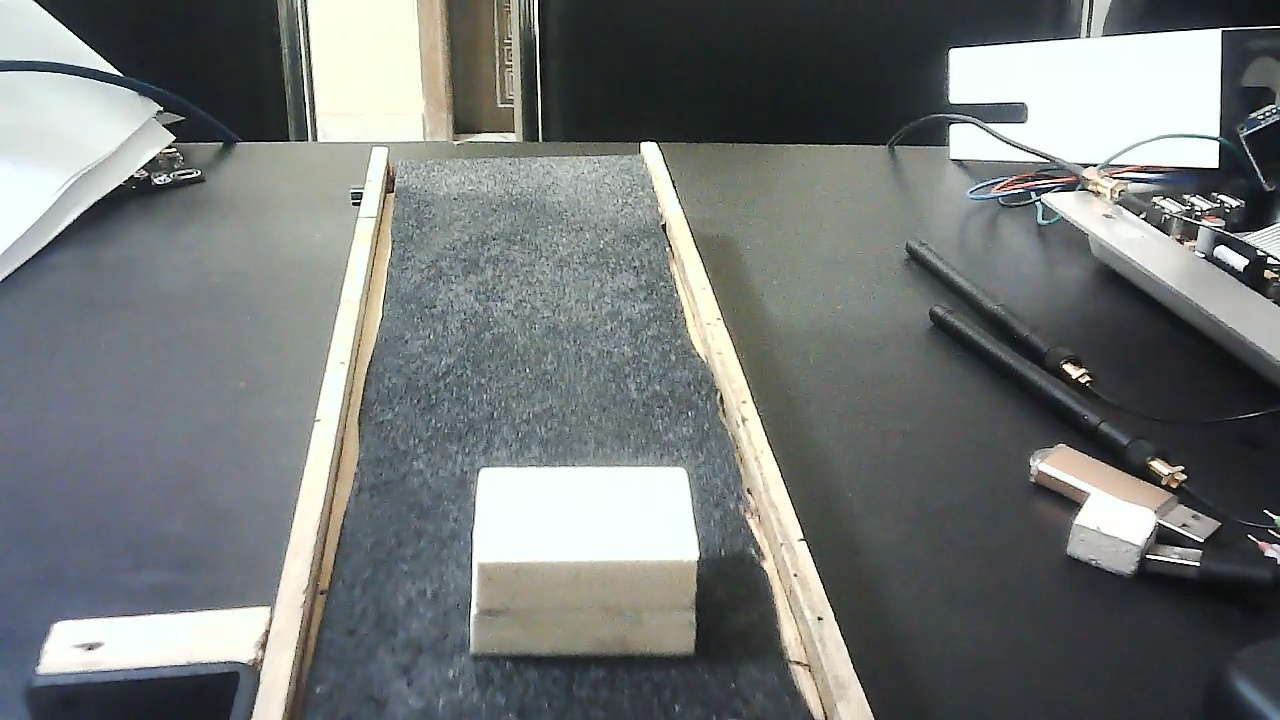BIG: (474, 449, 699, 674)
